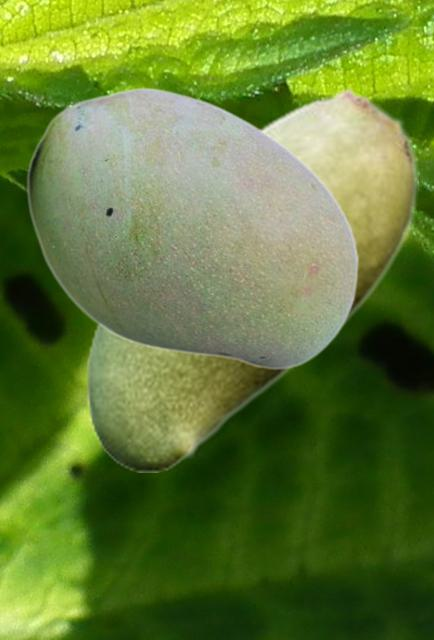green_mango: (85, 87, 417, 471), (26, 86, 358, 369)
